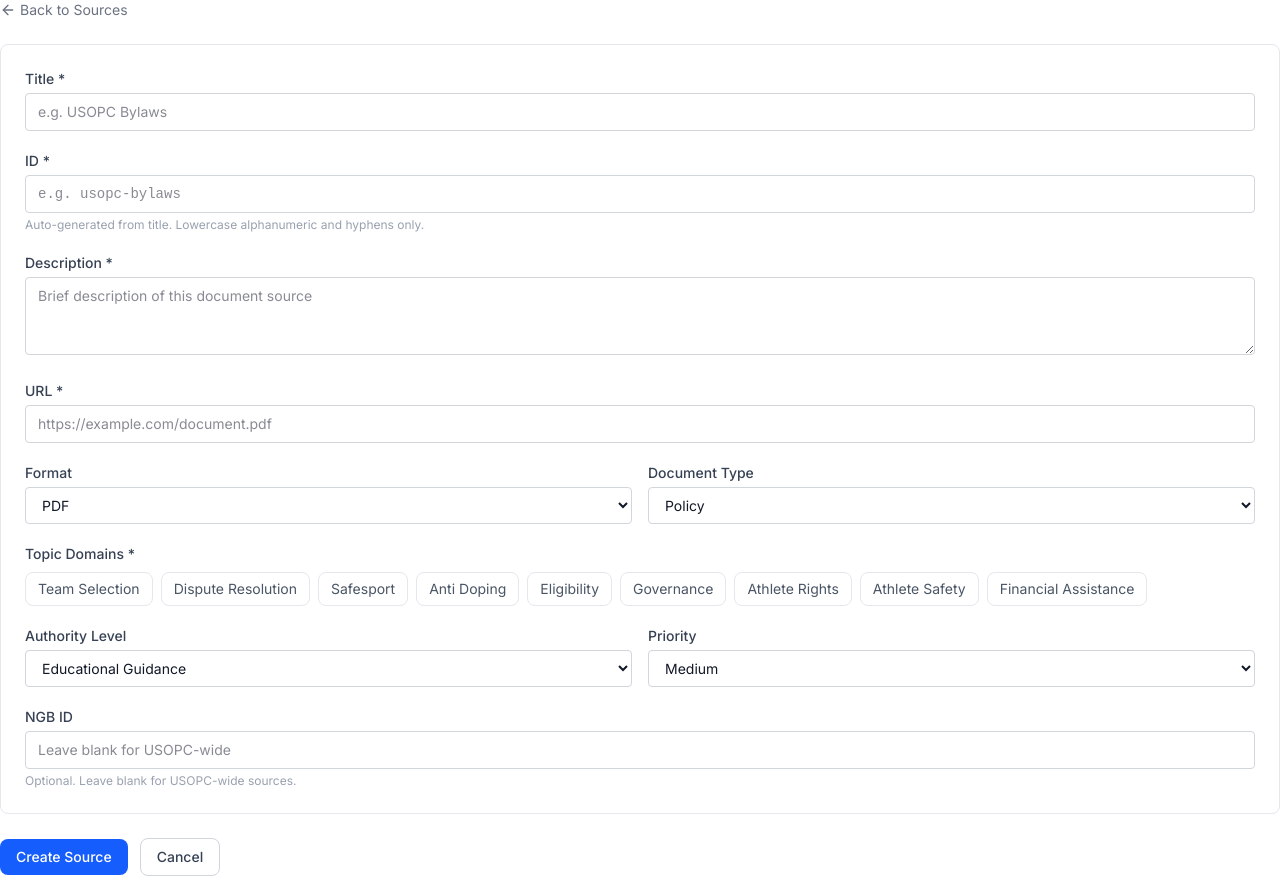
Test: CreateSourceForm › shows validation errors for missing required fields
The width and height of the screenshot is (1280, 894).
Click the button "Create Source" at (64,857), box left=0, top=839, right=128, bottom=875
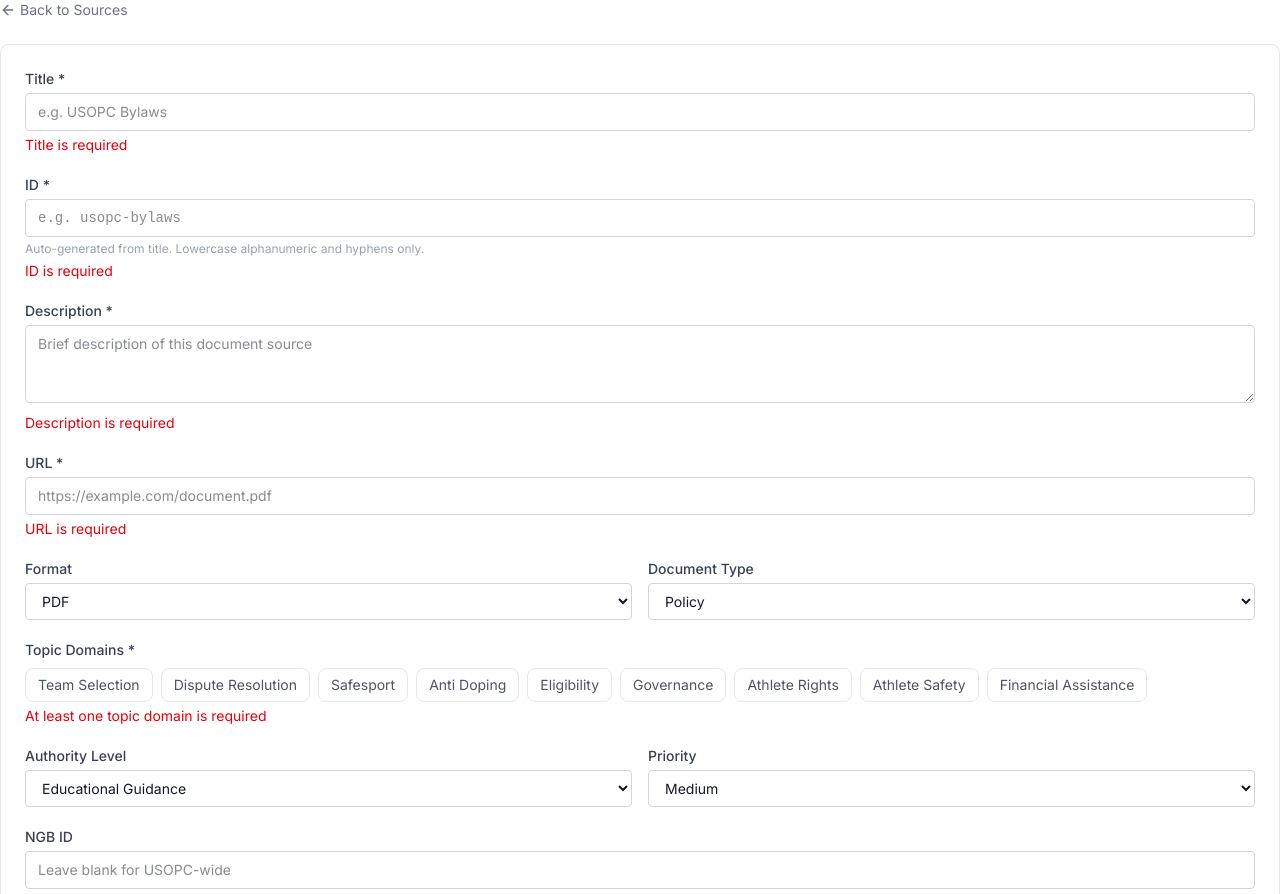
Expected: the text "ID is required" is shown, left=25, top=262, right=113, bottom=279
Expected: the text "Title is required" is shown, left=25, top=136, right=127, bottom=153
Expected: the text "Description is required" is shown, left=25, top=414, right=174, bottom=431
